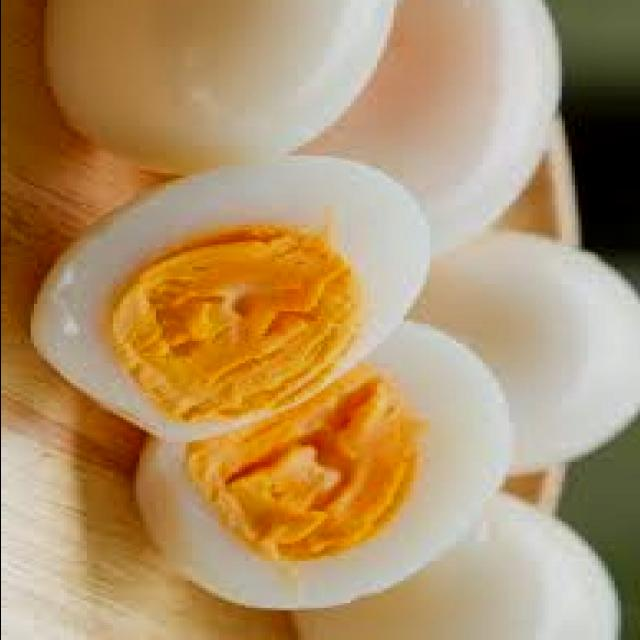telur rebus: (26, 153, 429, 445), (129, 321, 508, 613), (297, 0, 561, 242), (43, 0, 399, 175), (409, 230, 640, 474), (300, 497, 617, 640)
